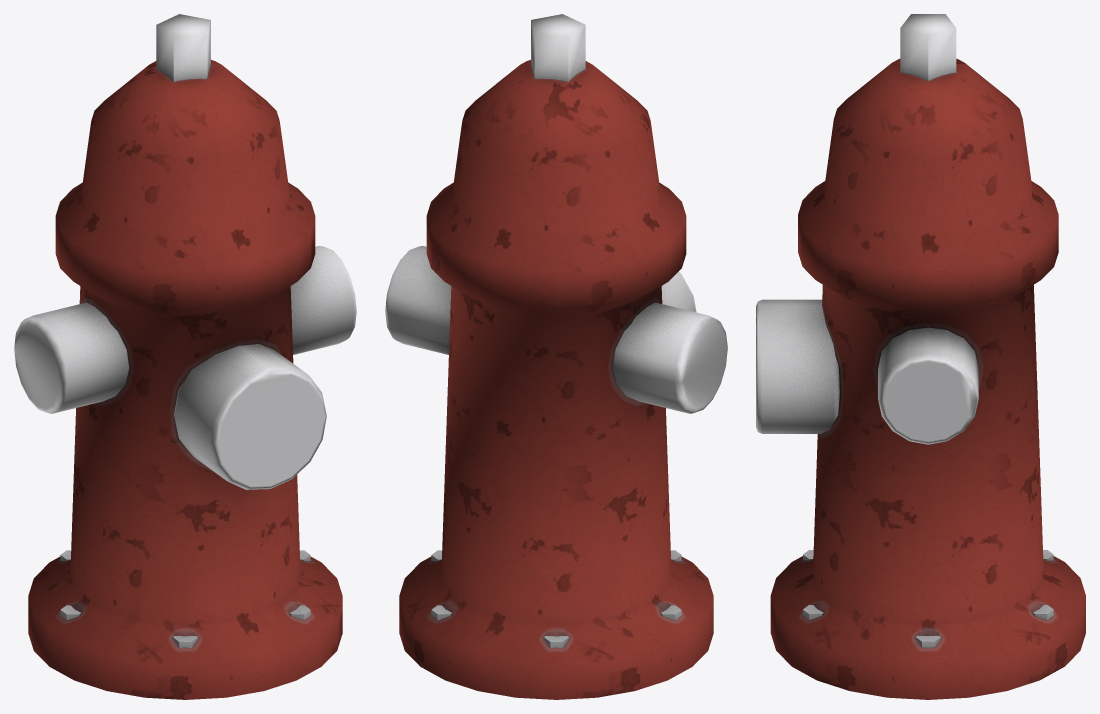
Rendered from WFHydrant.fbx.
The picture shows the model from 3 angles, left to right: view 1: azimuth 30°, elevation 25°; view 2: azimuth 150°, elevation 25°; view 3: azimuth 270°, elevation 25°; orthographic projection.
Parts seen in each view (by area): view 1: WFHydrant; view 2: WFHydrant; view 3: WFHydrant.
Boxes of the visible parts, <box> form: WFHydrant: <box>14,14,356,699</box>; WFHydrant: <box>385,14,727,699</box>; WFHydrant: <box>756,14,1085,699</box>.
Bounding box in the file's own units: 164 × 320 × 157.
